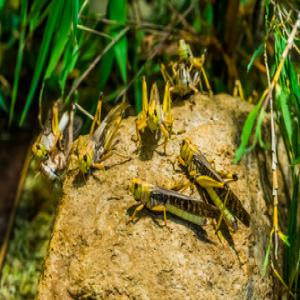locust: (180, 125, 249, 239), (76, 87, 134, 187), (161, 20, 208, 100)
